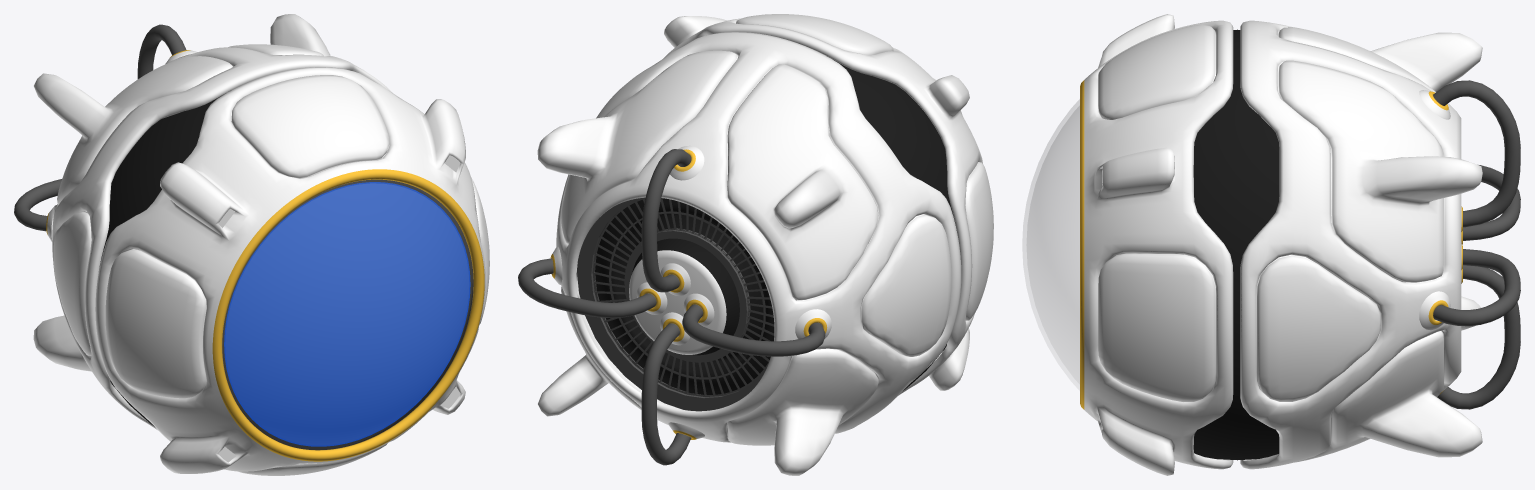
File: HASS_Bot_1.0.fbx
3 views of the same model, side by side, from view 1: azimuth 30°, elevation 25°; view 2: azimuth 150°, elevation 25°; view 3: azimuth 270°, elevation 25° (orthographic). The views are drawn at different scales.
Parts seen in each view (by area): view 1: Front Cover, Glass, Screen, Back Cover, Front Metal Ring, Body, Pipes; view 2: Back Cover, Body, Front Cover, Grid, Pipes, Pipe Out Cover Right, Pipe Out Cover Top, Pipe Out Back Top, Pipe Out Back Right; view 3: Back Cover, Front Cover, Body, Glass, Pipes, Front Metal Ring, Pipe Out Cover Left.
Part boxes in pixels (<box>): Front Cover: <box>95,67,489,475</box>; Glass: <box>222,180,472,449</box>; Screen: <box>224,182,470,446</box>; Back Cover: <box>33,14,392,429</box>; Front Metal Ring: <box>212,169,484,461</box>; Body: <box>99,93,473,450</box>; Pipes: <box>14,24,186,231</box>; Back Cover: <box>537,32,961,475</box>; Body: <box>595,56,957,394</box>; Front Cover: <box>663,14,993,395</box>; Grid: <box>577,197,774,411</box>; Pipes: <box>518,149,825,465</box>; Pipe Out Cover Right: <box>795,309,831,338</box>; Pipe Out Cover Top: <box>670,145,704,180</box>; Pipe Out Back Top: <box>660,263,690,295</box>; Pipe Out Back Right: <box>683,293,714,326</box>; Back Cover: <box>1240,20,1482,469</box>; Front Cover: <box>1084,14,1233,475</box>; Body: <box>1193,29,1279,460</box>; Glass: <box>1022,99,1079,390</box>; Pipes: <box>1433,80,1520,409</box>; Front Metal Ring: <box>1080,80,1084,409</box>; Pipe Out Cover Left: <box>1419,291,1450,330</box>.
Bounding box in the file's own units: 1.99 × 1.99 × 2.21.
